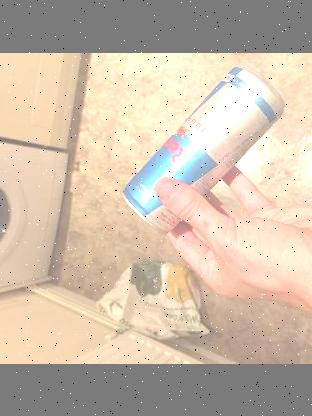Can: (120, 64, 288, 235)
